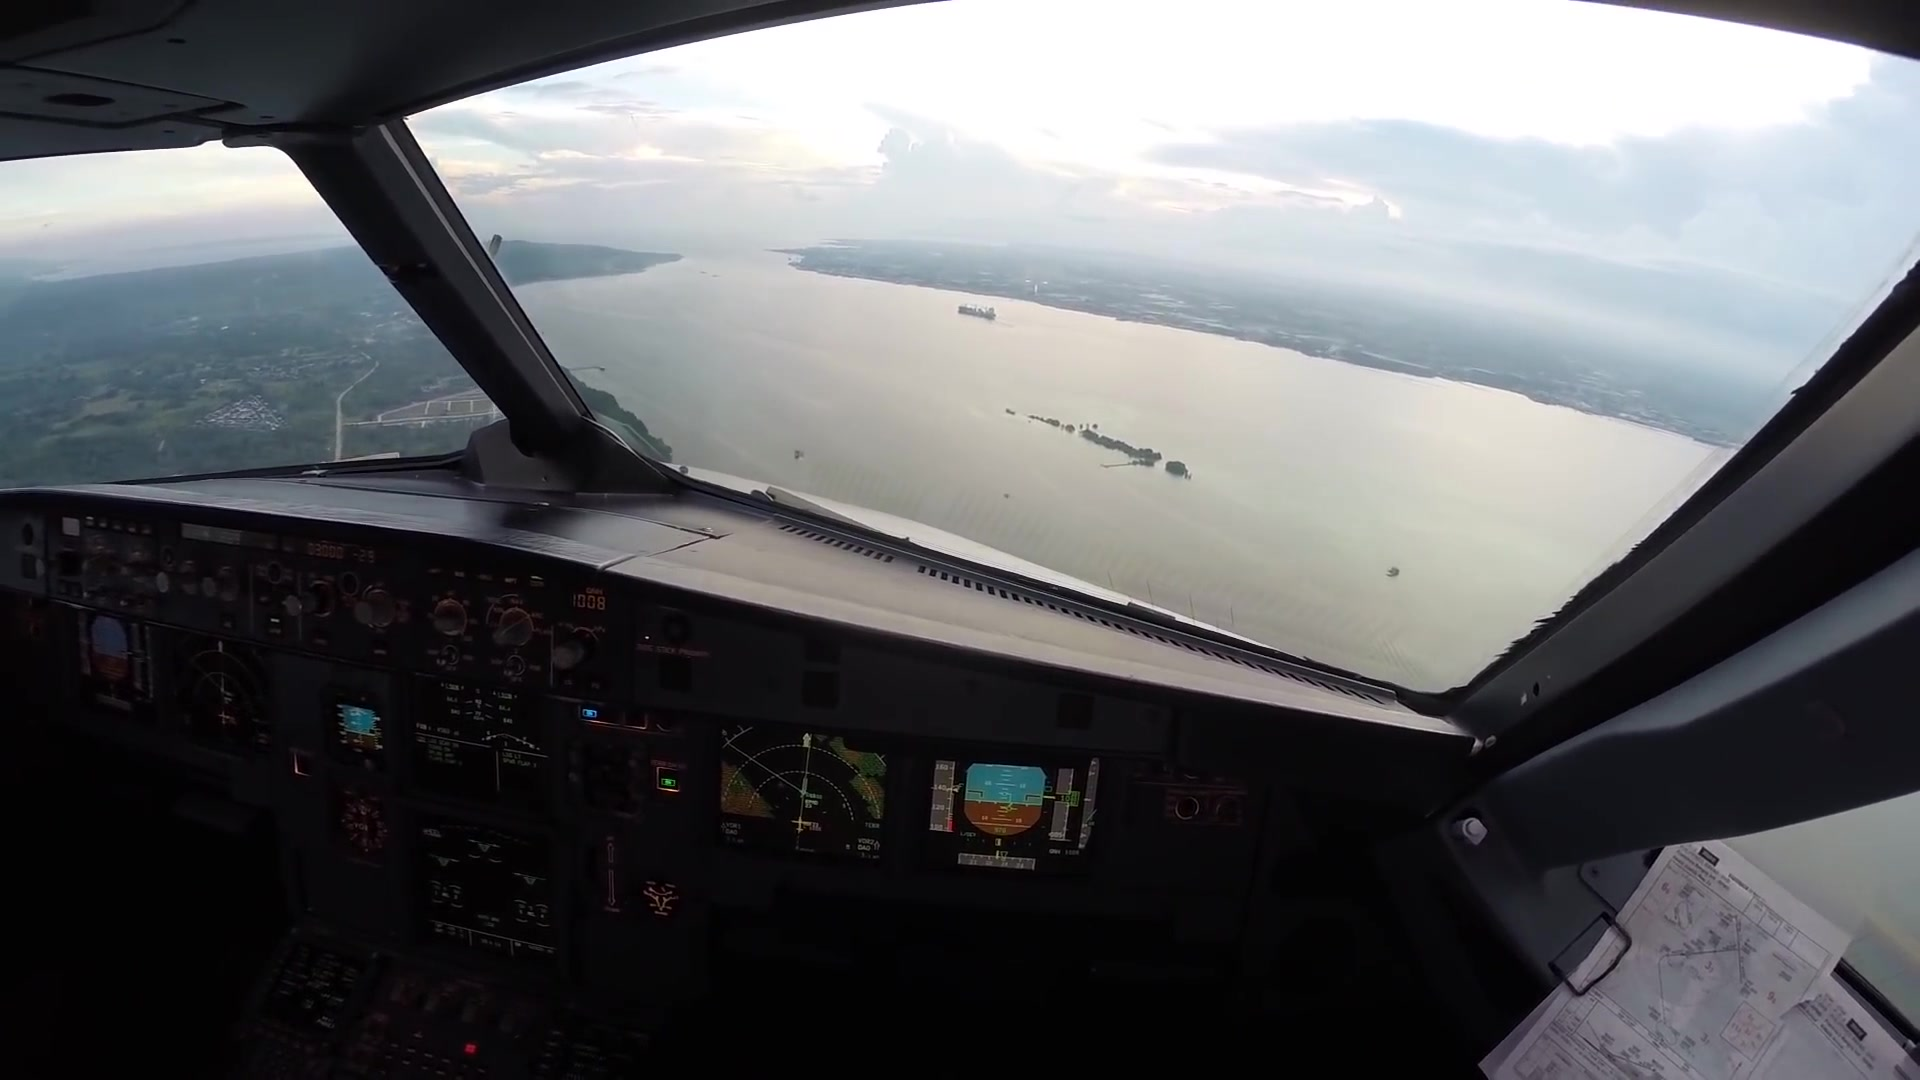runway: (1025, 247, 1051, 293)
